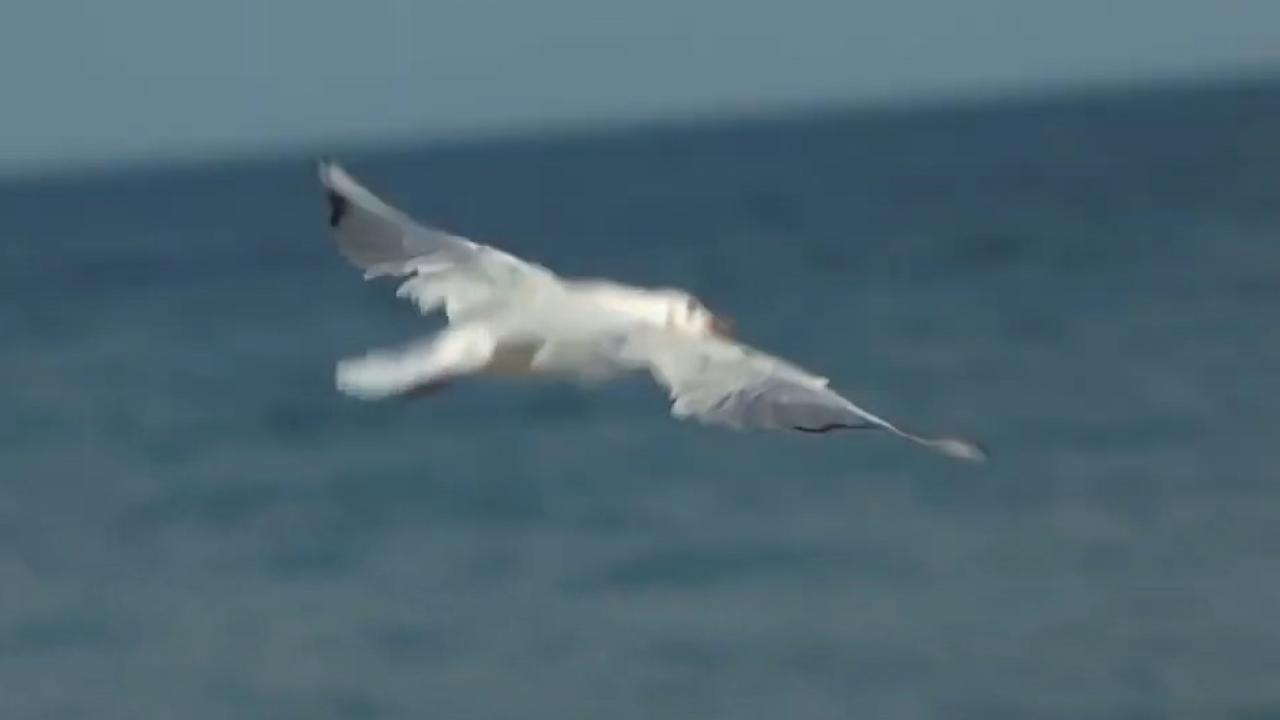Bird: (302, 143, 998, 476)
